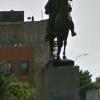Statue: (38, 2, 81, 62)
